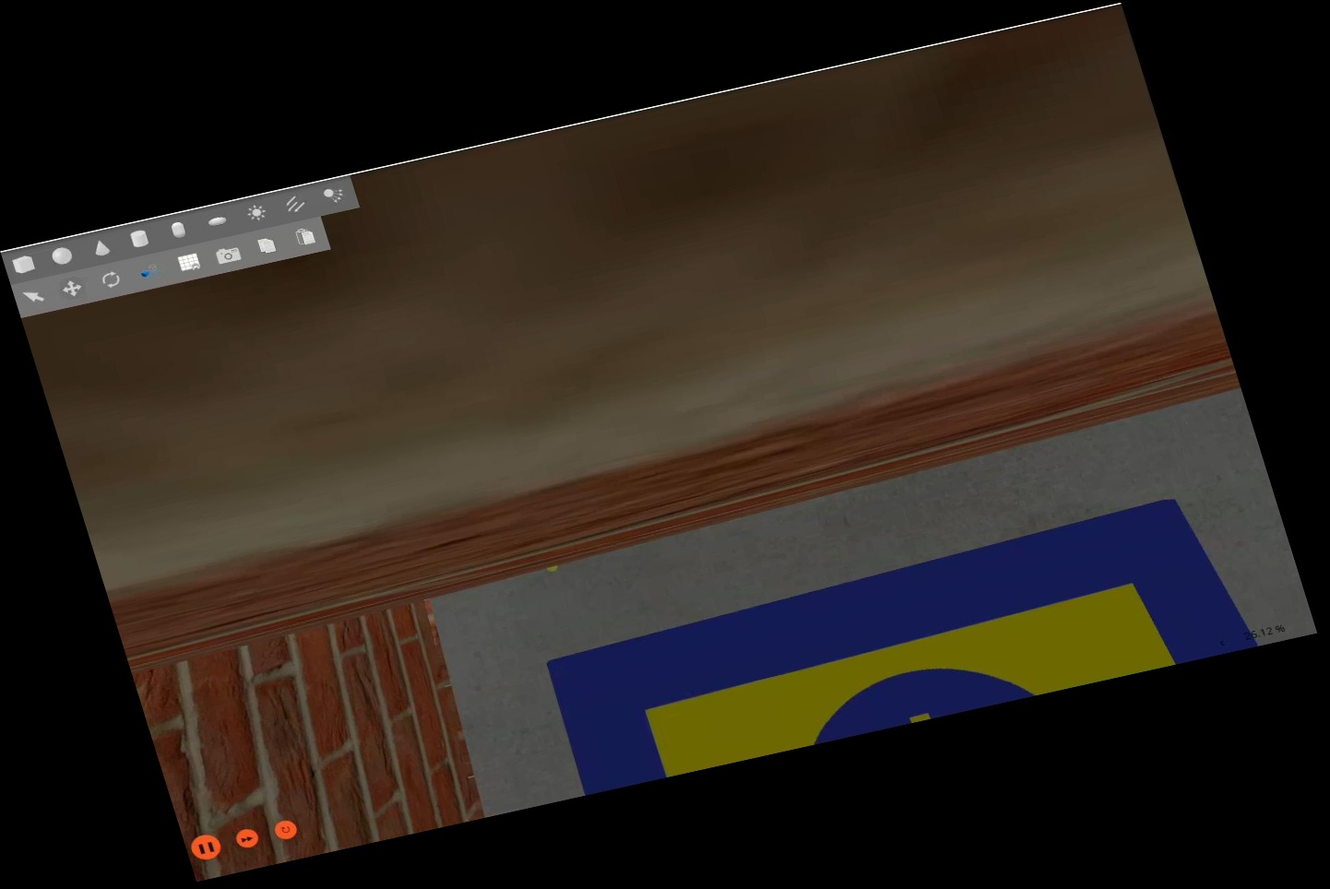large_base: (536, 492, 1257, 797)
